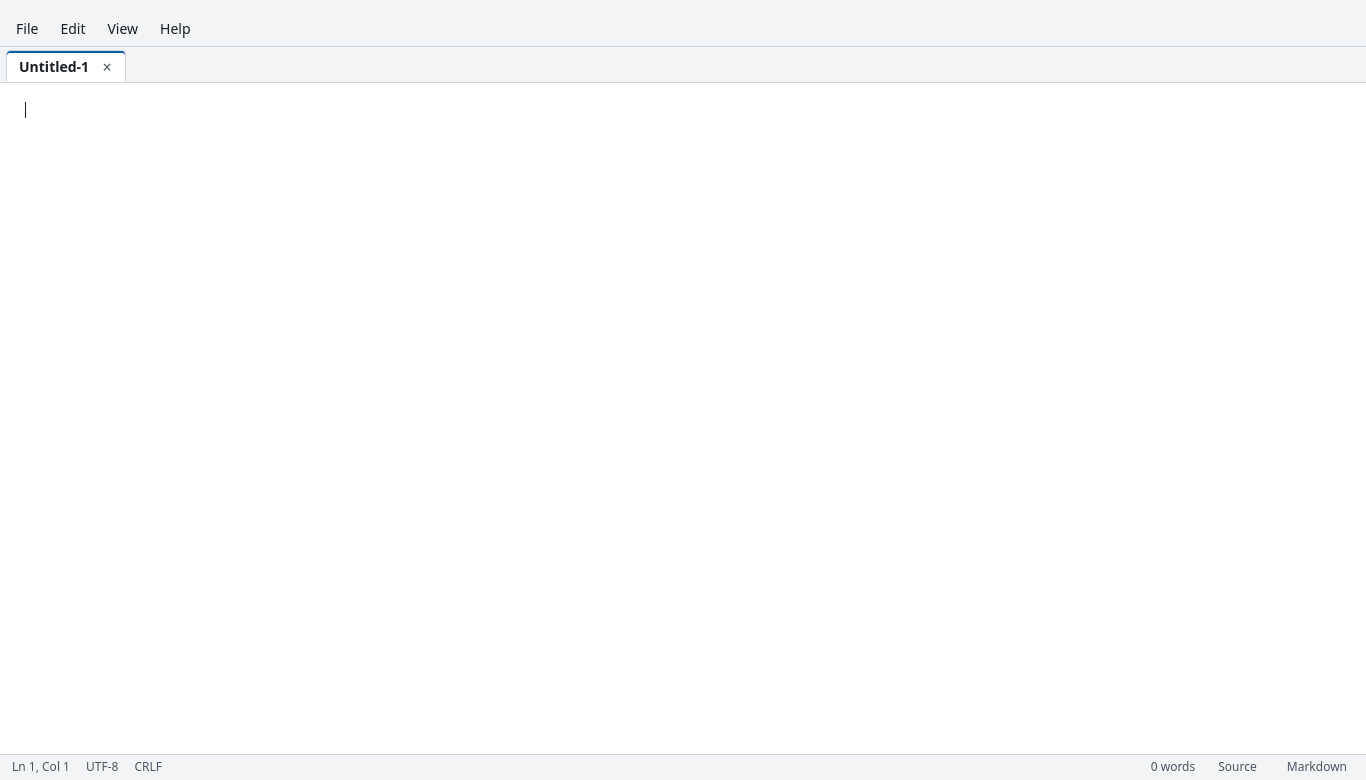
Test: empty state › appears with buttons and shortcuts when the last tab closes
Expected: the tab "Untitled-1" is shown, [7, 51, 93, 82]
Expected: the text "No document open" is not shown
Press w
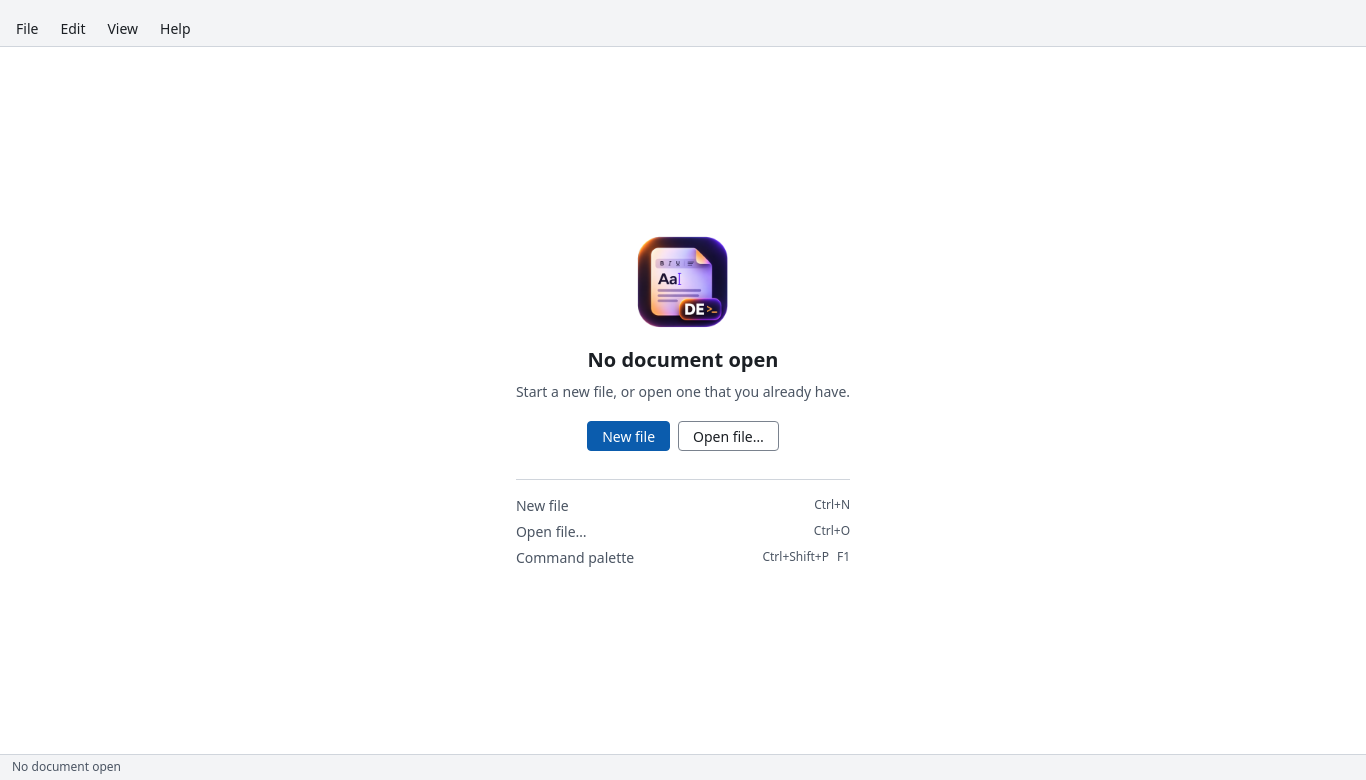
Result: the text "Ctrl+N" is shown at [814, 496, 850, 516]
Result: the text "Ctrl+O" is shown at [814, 522, 850, 542]
Result: the text "F1" is shown at [837, 548, 850, 567]
Click the button "New file" at (629, 436), box [587, 421, 670, 451]
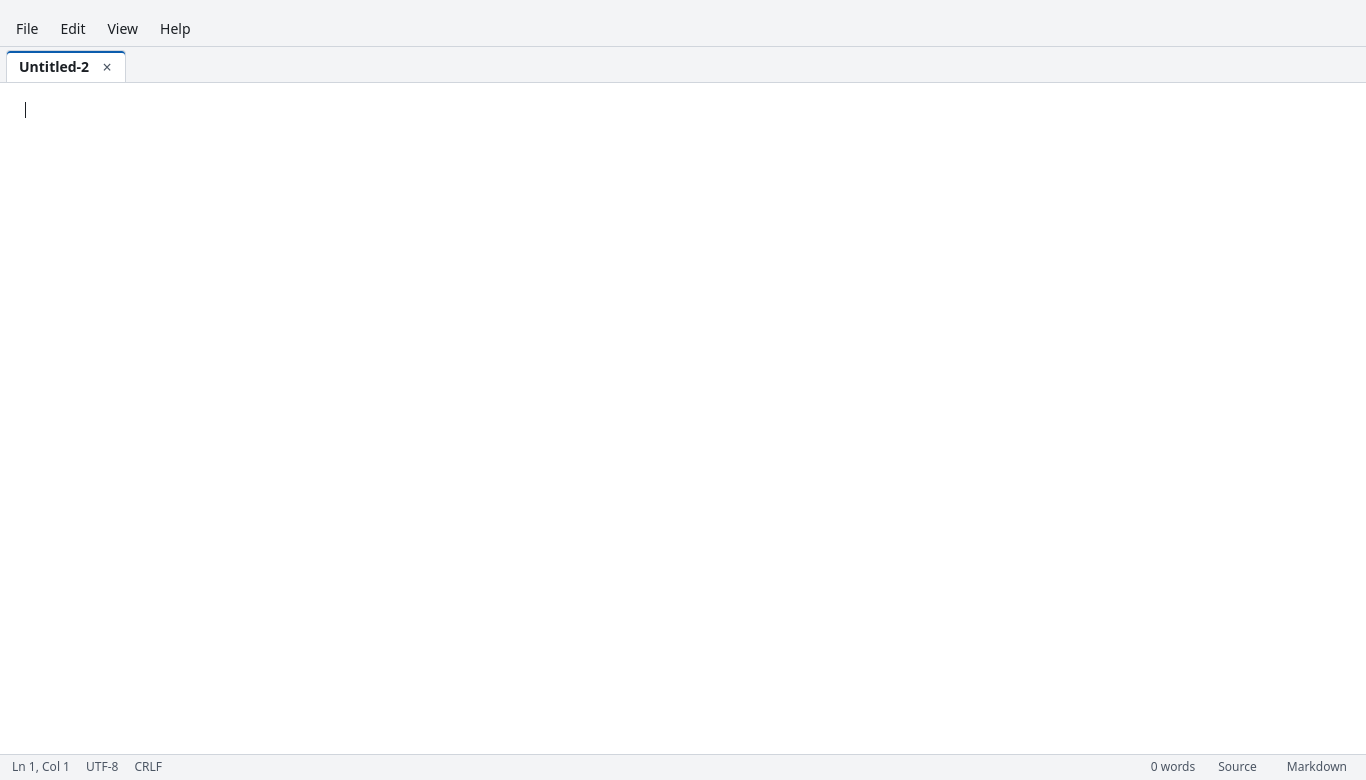
Result: the tab "Untitled-2" is shown at [7, 51, 93, 82]
Result: the heading "No document open" is gone
